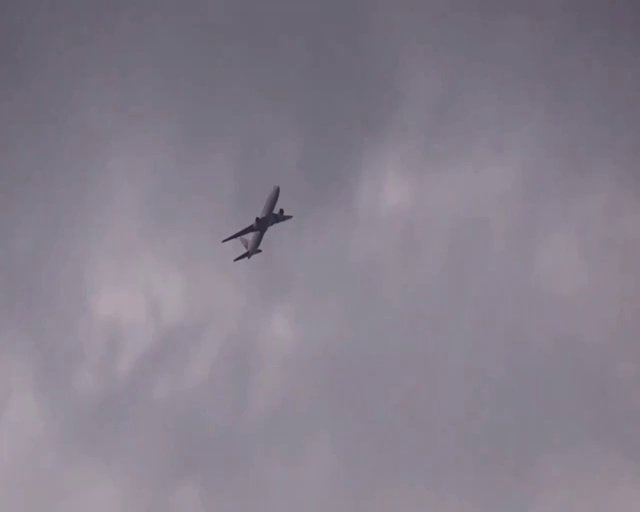AIRPLANE: (221, 185, 293, 262)
